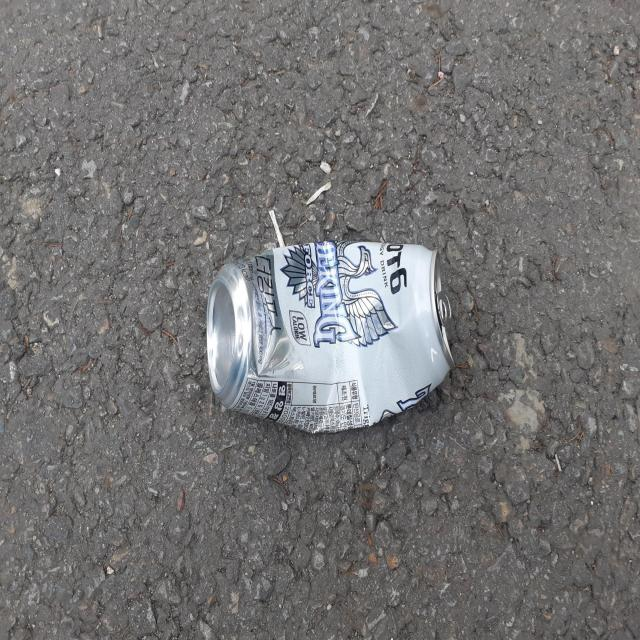can: (206, 241, 454, 432)
